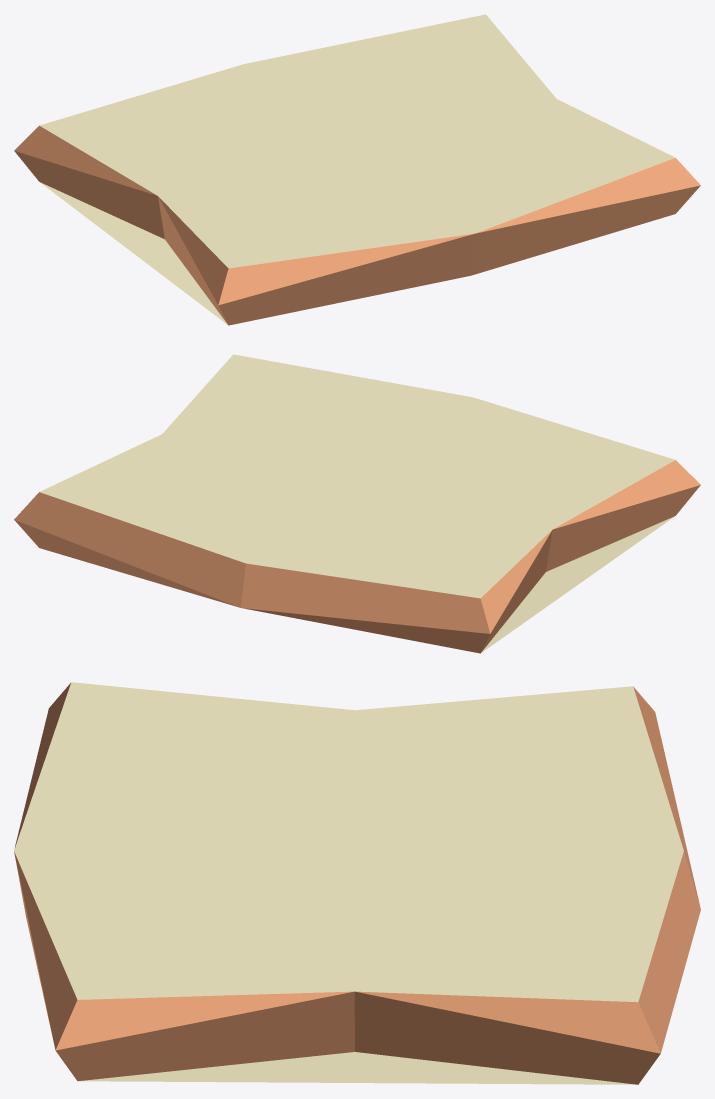
File: Slice of Bread.fbx
The picture shows the model from 3 angles, top to bottom: view 1: azimuth 30°, elevation 25°; view 2: azimuth 150°, elevation 25°; view 3: azimuth 270°, elevation 25°; orthographic projection. The views are drawn at different scales.
Visible parts, largest first — view 1: Slice of Bread; view 2: Slice of Bread; view 3: Slice of Bread.
Boxes of the visible parts, x1,y1,x2,y2 form: Slice of Bread: (14, 14, 700, 325); Slice of Bread: (14, 354, 700, 653); Slice of Bread: (14, 682, 700, 1084).
Size of the model in its own units: 12.92 by 1.64 by 10.85.
